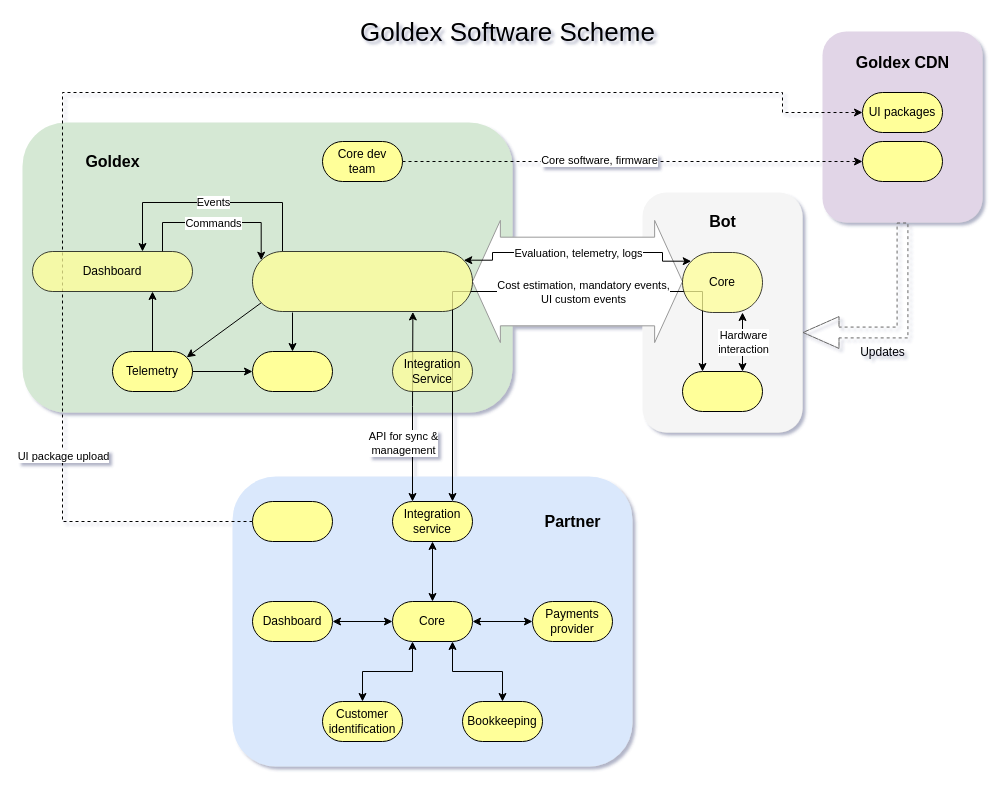
Some shapes in this 1006 by 790 pixel diagram are drawn without their labels. The shapes that lost their labels are listed below. From the top down, each one's centre as x and y in pixels, then its label:
At point (902, 161): "Software packages".
At point (362, 281): "Goldex core".
At point (577, 281): "Goldex protocol".
At point (292, 371): "Security alerts".
At point (722, 391): "UI".
At point (292, 521): "UI dev team".
